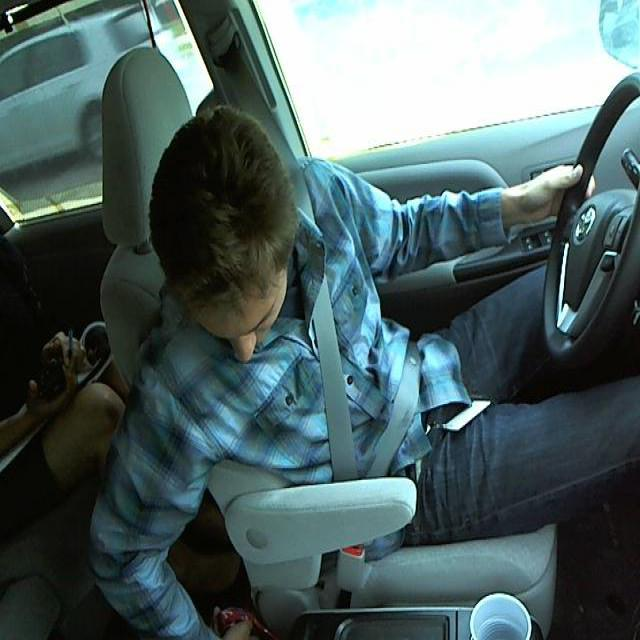seatbelt: (299, 233, 423, 471)
